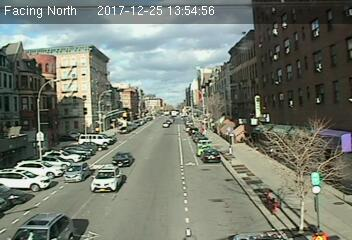car: (90, 164, 122, 193), (62, 162, 90, 183), (111, 152, 134, 166), (202, 150, 221, 162)
